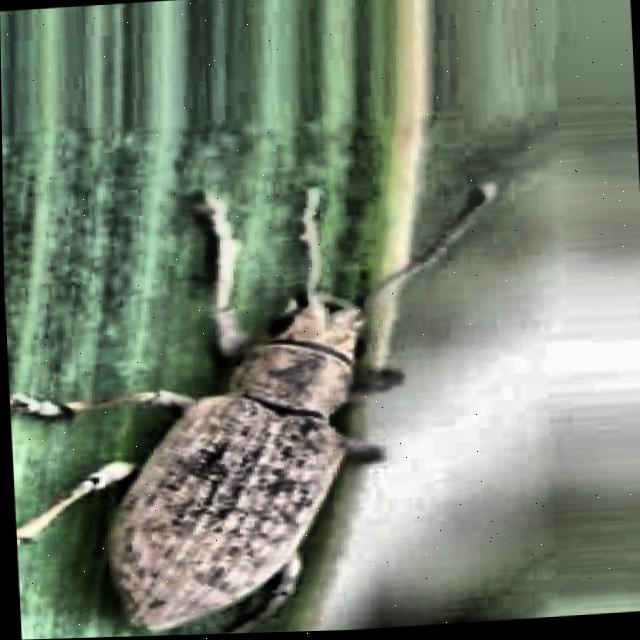Stink bug: (50, 204, 514, 639)
